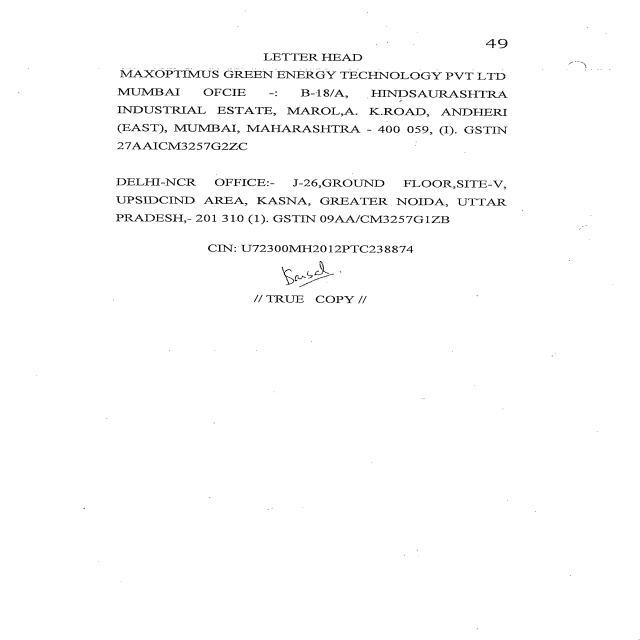page-number: (382, 0, 634, 67)
